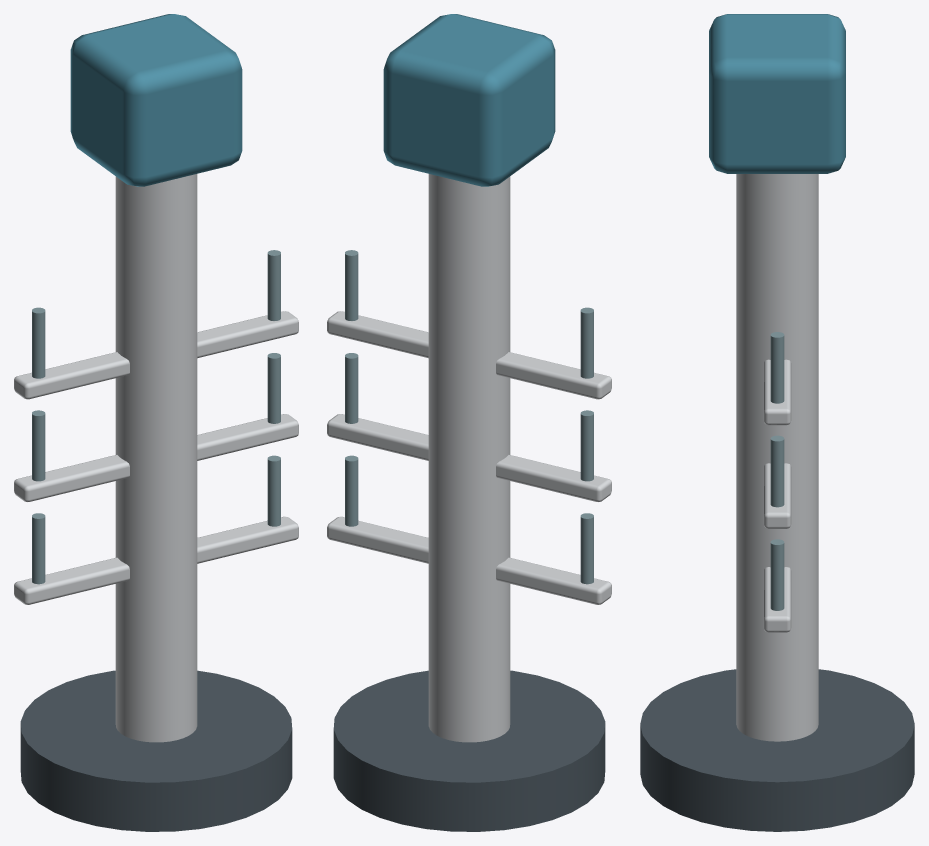
File: sensor.glb
3 views of the same model, side by side, from view 1: azimuth 30°, elevation 25°; view 2: azimuth 150°, elevation 25°; view 3: azimuth 270°, elevation 25° (orthographic).
Parts seen in each view (by area): view 1: sensor-mast; view 2: sensor-mast; view 3: sensor-mast.
Boxes of the visible parts, <box> form: sensor-mast: <box>14,14,298,831</box>; sensor-mast: <box>327,14,611,831</box>; sensor-mast: <box>640,14,914,831</box>.
Size of the model in its own units: 0.7001 by 1.78 by 0.6.
